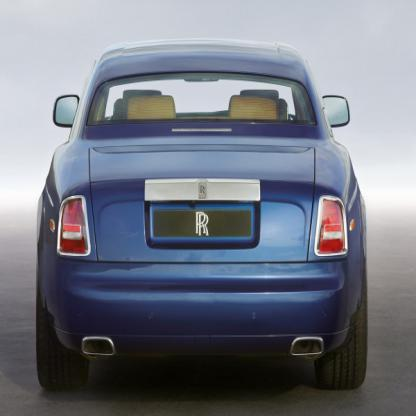Vehicle: (36, 40, 370, 393)
